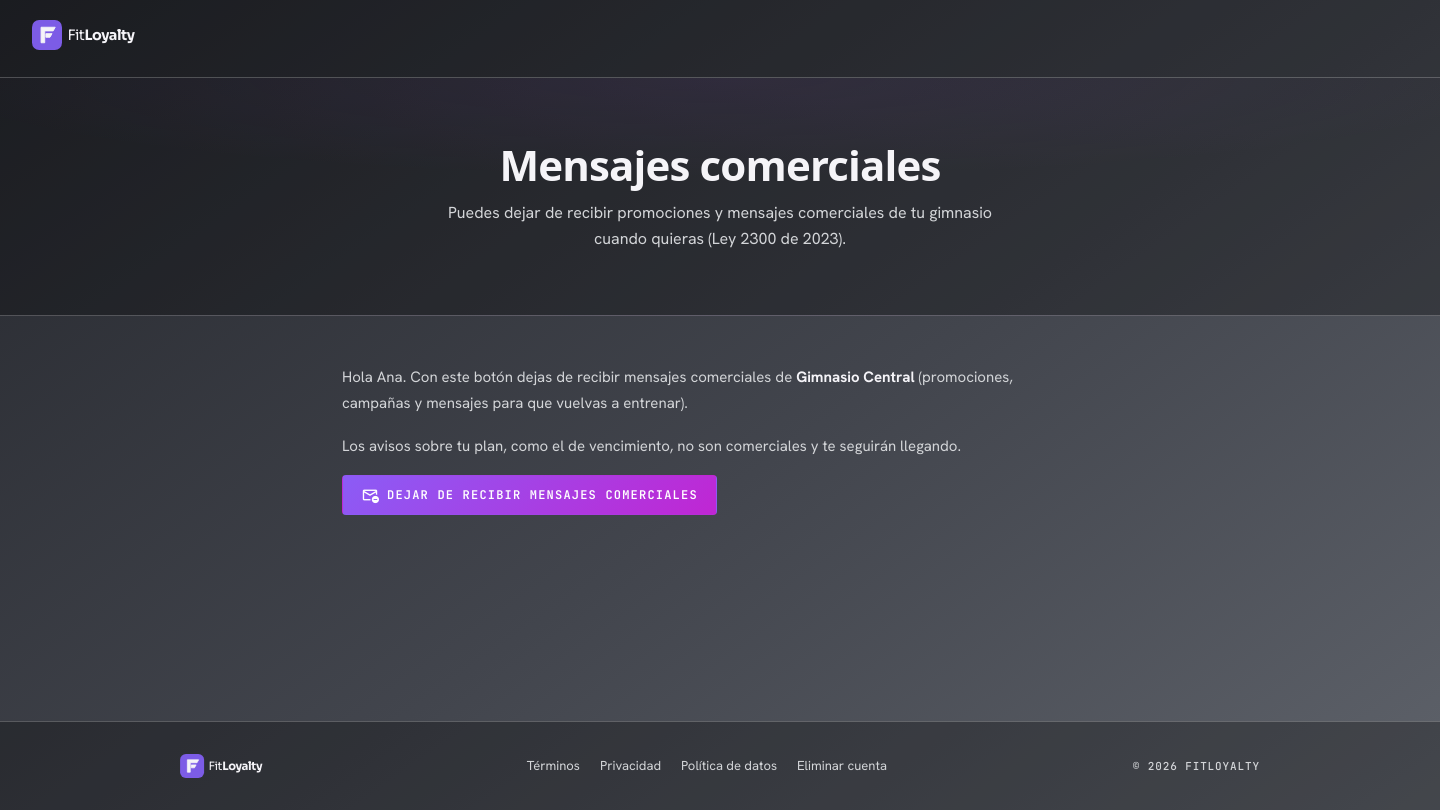
Scenario: BajaMensajesPage: darse de baja › should show the message of the API and keep the button to try again when the unsubscription cannot be saved
Click the button "Dejar de recibir mensajes comerciales" at (529, 495), box [342,475,717,515]
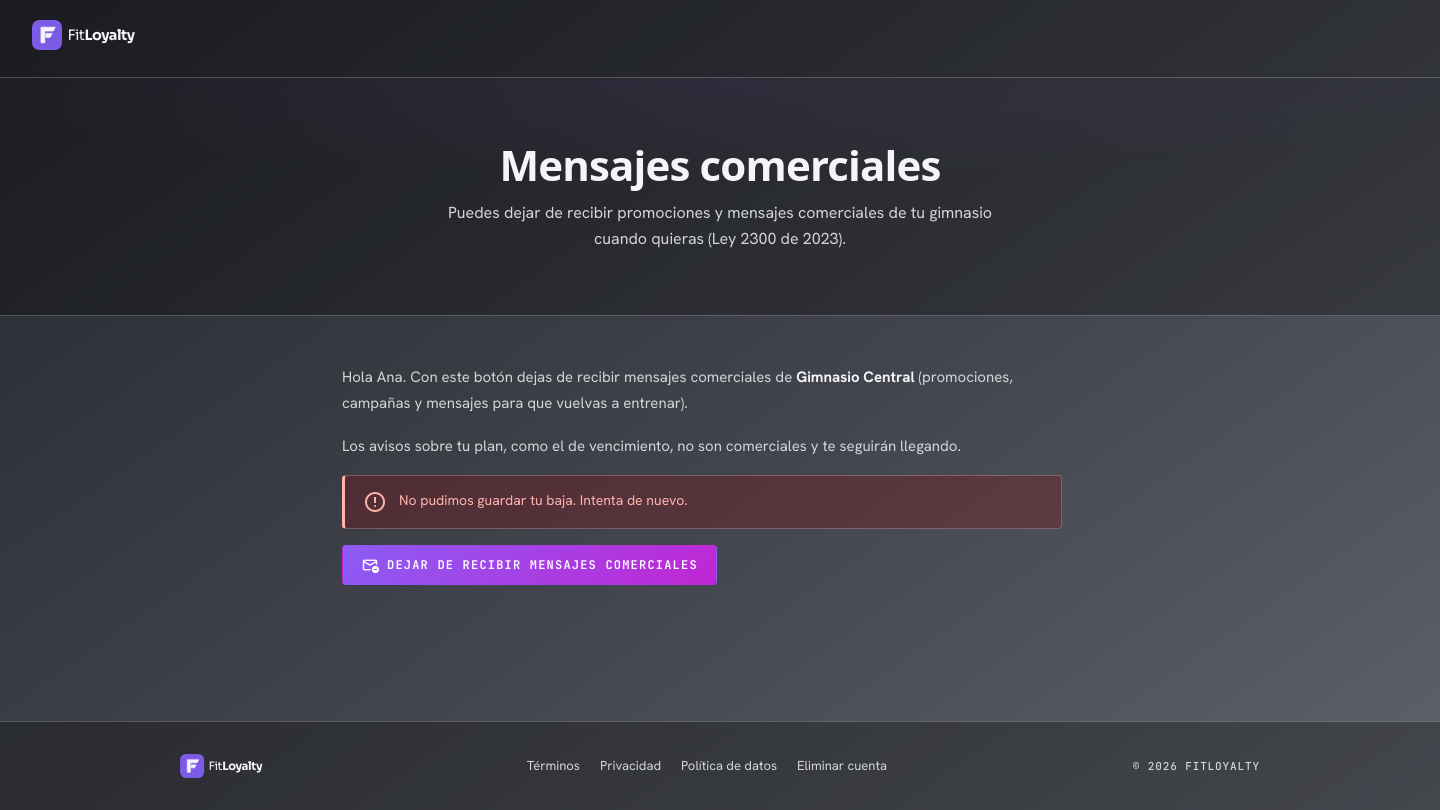
Expected: the button "Dejar de recibir mensajes comerciales" is enabled, [342,545,717,585]
Expected: the text "No pudimos guardar tu baja. Intenta de nuevo." is shown, [399,490,688,511]
